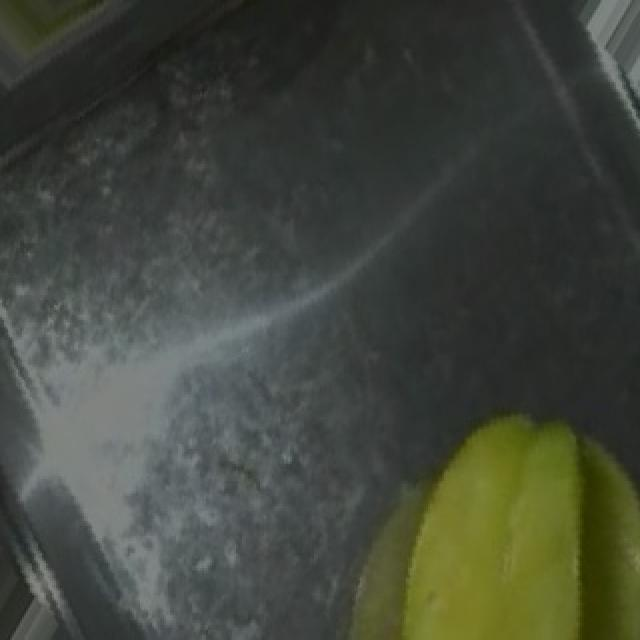fruit: (306, 382, 638, 640)
